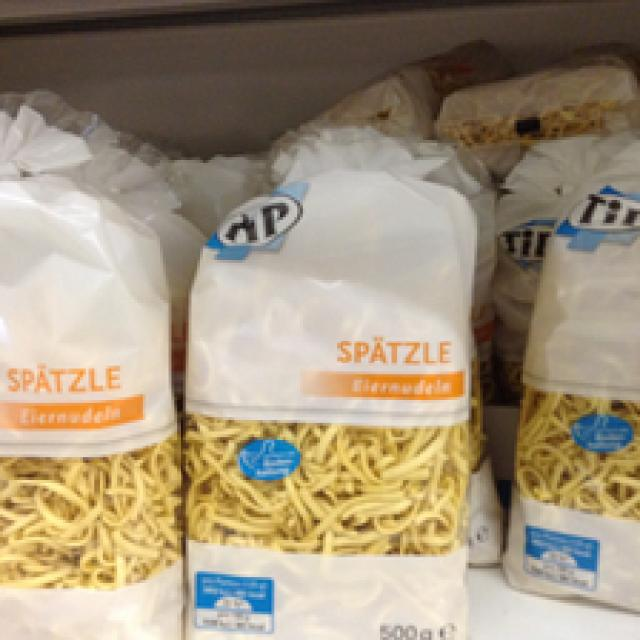groceries: (180, 152, 474, 634), (0, 172, 183, 637), (500, 148, 637, 603)
